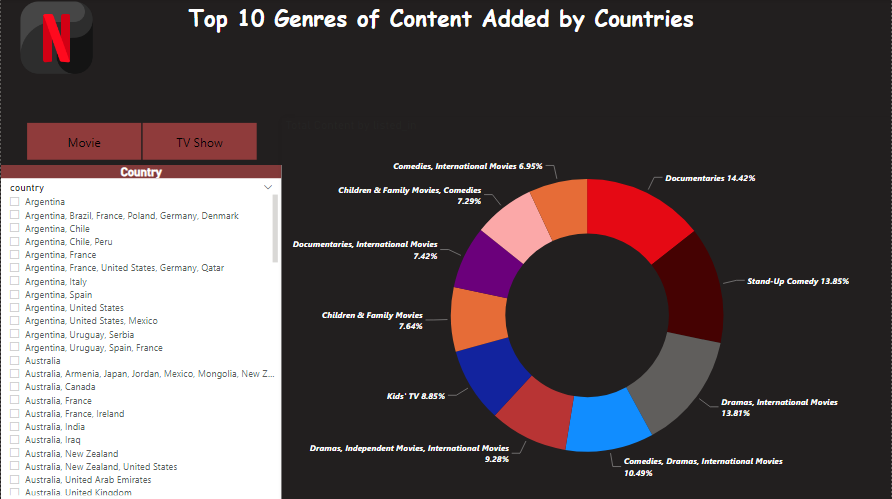

The page's visual inventory and layout, read from the dashboard file:
{"tool":"powerbi","page":{"name":"Report 4","canvas":[1280,720],"ordinal":6},"visuals":[{"type":"image","box":[13.4,0,134.4,114.2],"z":0},{"type":"slicer","fields":{"Values":["netflix_titles.type"]},"box":[11.8,173,379.6,67.2],"z":1000},{"type":"textbox","box":[122.6,0,1034.8,82.3],"z":2000},{"type":"slicer","title":"Country","fields":{"Values":["netflix_titles.country"]},"box":[0,240.2,403.1,480.4],"z":2001},{"type":"donutChart","fields":{"Category":["netflix_titles.listed_in"],"Y":["Date.Total Content"]},"box":[403.1,173,876.9,547.6],"z":2002}]}

Visuals, with their boxes in screenshot pixels (x1, y1, x2, y2), scaled from the page's 1280x720 canvas onto the 892x499 screenshot:
image: l=9, t=0, r=103, b=79
slicer - netflix_titles.type: l=8, t=120, r=273, b=166
textbox: l=85, t=0, r=807, b=57
"Country" slicer: l=0, t=166, r=281, b=498
donutChart - netflix_titles.listed_in x Date.Total Content: l=281, t=120, r=891, b=498
